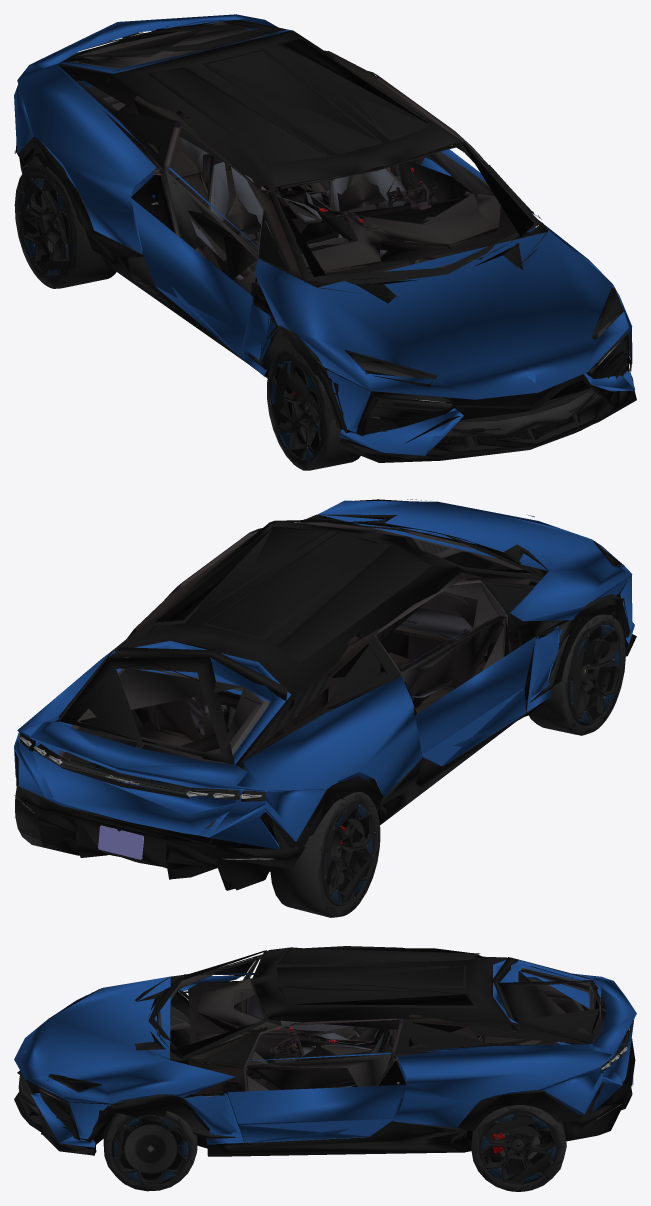
File: lamborghini-lanzador.lod.glb
3 renders of one model, top to bottom at view 1: azimuth 30°, elevation 25°; view 2: azimuth 150°, elevation 25°; view 3: azimuth 270°, elevation 25°, orthographic. The views are drawn at different scales.
Parts seen in each view (by area): view 1: body:Paint_Geo_lodABody_lodA_Lamborghini_IVRewardRecycled_20, Carbon1_Geo_lodA_Lamborghini_IVRewardRecycled_2024Carbon1_Ma, Interior_Geo_lodA_Lamborghini_IVRewardRecycled_2024InteriorA, Coloured_Geo_lodA_Lamborghini_IVRewardRecycled_2024Coloured_, polySurface1_Lamborghini_IVRewardRecycled_2024_Wheel1A_3D_3D, Carbon1M_Geo_lodA_Lamborghini_IVRewardRecycled_2024Carbon1M_, Base_Geo_lodA_Lamborghini_IVRewardRecycled_2024Base_Material, InteriorTilling_Geo_lodA_Lamborghini_IVRewardRecycled_2024In, Grille4_Geo_lodA_Lamborghini_IVRewardRecycled_2024Grille4A_M, Carbon1Details_Geo_lodA_Lamborghini_IVRewardRecycled_2024Car, Grille1_Geo_lodA_Lamborghini_IVRewardRecycled_2024Grille1A_M, Window Front L_Lamborghini_IVRewardRecycled_2024_Wheel1A_3DW; view 2: body:Paint_Geo_lodABody_lodA_Lamborghini_IVRewardRecycled_20, Carbon1_Geo_lodA_Lamborghini_IVRewardRecycled_2024Carbon1_Ma, Coloured_Geo_lodA_Lamborghini_IVRewardRecycled_2024Coloured_, Interior_Geo_lodA_Lamborghini_IVRewardRecycled_2024InteriorA, polySurface1_Lamborghini_IVRewardRecycled_2024_Wheel1A_3D_3D, Carbon1M_Geo_lodA_Lamborghini_IVRewardRecycled_2024Carbon1M_, Base_Geo_lodA_Lamborghini_IVRewardRecycled_2024Base_Material, Light_Geo_lodA_Lamborghini_IVRewardRecycled_2024LightA_Mater, InteriorTilling_Geo_lodA_Lamborghini_IVRewardRecycled_2024In, ManufacturerPlate_Geo_lodA_Lamborghini_IVRewardRecycled_2024, Window Front L_Lamborghini_IVRewardRecycled_2024_Wheel1A_3DW; view 3: body:Paint_Geo_lodABody_lodA_Lamborghini_IVRewardRecycled_20, Carbon1_Geo_lodA_Lamborghini_IVRewardRecycled_2024Carbon1_Ma, Coloured_Geo_lodA_Lamborghini_IVRewardRecycled_2024Coloured_, polySurface1_Lamborghini_IVRewardRecycled_2024_Wheel1A_3D_3D, Interior_Geo_lodA_Lamborghini_IVRewardRecycled_2024InteriorA, Carbon1M_Geo_lodA_Lamborghini_IVRewardRecycled_2024Carbon1M_, Base_Geo_lodA_Lamborghini_IVRewardRecycled_2024Base_Material, InteriorTilling_Geo_lodA_Lamborghini_IVRewardRecycled_2024In, Window Front L_Lamborghini_IVRewardRecycled_2024_Wheel1A_3DW, Carbon1Details_Geo_lodA_Lamborghini_IVRewardRecycled_2024Car.
Part boxes in pixels (left/top/right/bottom): body:Paint_Geo_lodABody_lodA_Lamborghini_IVRewardRecycled_20: left=14, top=14, right=634, bottom=455; Carbon1_Geo_lodA_Lamborghini_IVRewardRecycled_2024Carbon1_Ma: left=16, top=20, right=636, bottom=462; Interior_Geo_lodA_Lamborghini_IVRewardRecycled_2024InteriorA: left=76, top=21, right=526, bottom=348; Coloured_Geo_lodA_Lamborghini_IVRewardRecycled_2024Coloured_: left=60, top=20, right=629, bottom=455; polySurface1_Lamborghini_IVRewardRecycled_2024_Wheel1A_3D_3D: left=14, top=162, right=360, bottom=470; Carbon1M_Geo_lodA_Lamborghini_IVRewardRecycled_2024Carbon1M_: left=152, top=38, right=519, bottom=332; Base_Geo_lodA_Lamborghini_IVRewardRecycled_2024Base_Material: left=34, top=21, right=620, bottom=441; InteriorTilling_Geo_lodA_Lamborghini_IVRewardRecycled_2024In: left=167, top=137, right=414, bottom=280; Grille4_Geo_lodA_Lamborghini_IVRewardRecycled_2024Grille4A_M: left=370, top=337, right=625, bottom=435; Carbon1Details_Geo_lodA_Lamborghini_IVRewardRecycled_2024Car: left=131, top=175, right=256, bottom=284; Grille1_Geo_lodA_Lamborghini_IVRewardRecycled_2024Grille1A_M: left=438, top=398, right=601, bottom=443; Window Front L_Lamborghini_IVRewardRecycled_2024_Wheel1A_3DW: left=21, top=178, right=320, bottom=459; body:Paint_Geo_lodABody_lodA_Lamborghini_IVRewardRecycled_20: left=14, top=500, right=634, bottom=849; Carbon1_Geo_lodA_Lamborghini_IVRewardRecycled_2024Carbon1_Ma: left=15, top=499, right=636, bottom=890; Coloured_Geo_lodA_Lamborghini_IVRewardRecycled_2024Coloured_: left=59, top=499, right=614, bottom=831; Interior_Geo_lodA_Lamborghini_IVRewardRecycled_2024InteriorA: left=59, top=522, right=530, bottom=844; polySurface1_Lamborghini_IVRewardRecycled_2024_Wheel1A_3D_3D: left=15, top=614, right=625, bottom=917; Carbon1M_Geo_lodA_Lamborghini_IVRewardRecycled_2024Carbon1M_: left=80, top=572, right=518, bottom=847; Base_Geo_lodA_Lamborghini_IVRewardRecycled_2024Base_Material: left=20, top=519, right=625, bottom=871; Light_Geo_lodA_Lamborghini_IVRewardRecycled_2024LightA_Mater: left=14, top=733, right=274, bottom=859; InteriorTilling_Geo_lodA_Lamborghini_IVRewardRecycled_2024In: left=153, top=608, right=471, bottom=734; ManufacturerPlate_Geo_lodA_Lamborghini_IVRewardRecycled_2024: left=98, top=825, right=143, bottom=859; Window Front L_Lamborghini_IVRewardRecycled_2024_Wheel1A_3DW: left=326, top=625, right=620, bottom=903; body:Paint_Geo_lodABody_lodA_Lamborghini_IVRewardRecycled_20: left=14, top=960, right=636, bottom=1147; Carbon1_Geo_lodA_Lamborghini_IVRewardRecycled_2024Carbon1_Ma: left=14, top=947, right=635, bottom=1156; Coloured_Geo_lodA_Lamborghini_IVRewardRecycled_2024Coloured_: left=20, top=947, right=599, bottom=1140; polySurface1_Lamborghini_IVRewardRecycled_2024_Wheel1A_3D_3D: left=103, top=1005, right=566, bottom=1191; Interior_Geo_lodA_Lamborghini_IVRewardRecycled_2024InteriorA: left=157, top=946, right=611, bottom=1128; Carbon1M_Geo_lodA_Lamborghini_IVRewardRecycled_2024Carbon1M_: left=188, top=955, right=579, bottom=1090; Base_Geo_lodA_Lamborghini_IVRewardRecycled_2024Base_Material: left=54, top=948, right=608, bottom=1156; InteriorTilling_Geo_lodA_Lamborghini_IVRewardRecycled_2024In: left=247, top=995, right=482, bottom=1087; Window Front L_Lamborghini_IVRewardRecycled_2024_Wheel1A_3DW: left=114, top=1115, right=555, bottom=1182; Carbon1Details_Geo_lodA_Lamborghini_IVRewardRecycled_2024Car: left=246, top=1061, right=406, bottom=1144.
Size of what is drawn, in the model's own units: 0.0211 by 0.015 by 0.0499.
24 materials, 15 textured.
